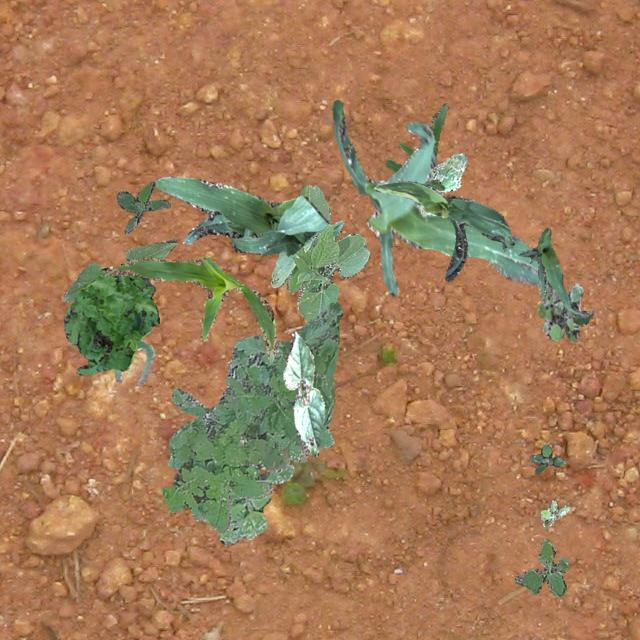crop: (331, 98, 538, 294), (102, 255, 276, 362), (372, 178, 514, 280), (154, 176, 328, 256), (270, 185, 368, 322), (61, 238, 176, 300), (518, 226, 588, 316), (383, 102, 448, 190), (282, 330, 324, 456), (113, 340, 153, 384)
weed: (160, 302, 342, 532), (63, 266, 158, 374), (218, 462, 294, 544), (538, 280, 592, 340), (514, 538, 568, 596), (418, 152, 466, 215), (116, 180, 170, 232), (528, 443, 564, 472), (540, 500, 568, 528)
